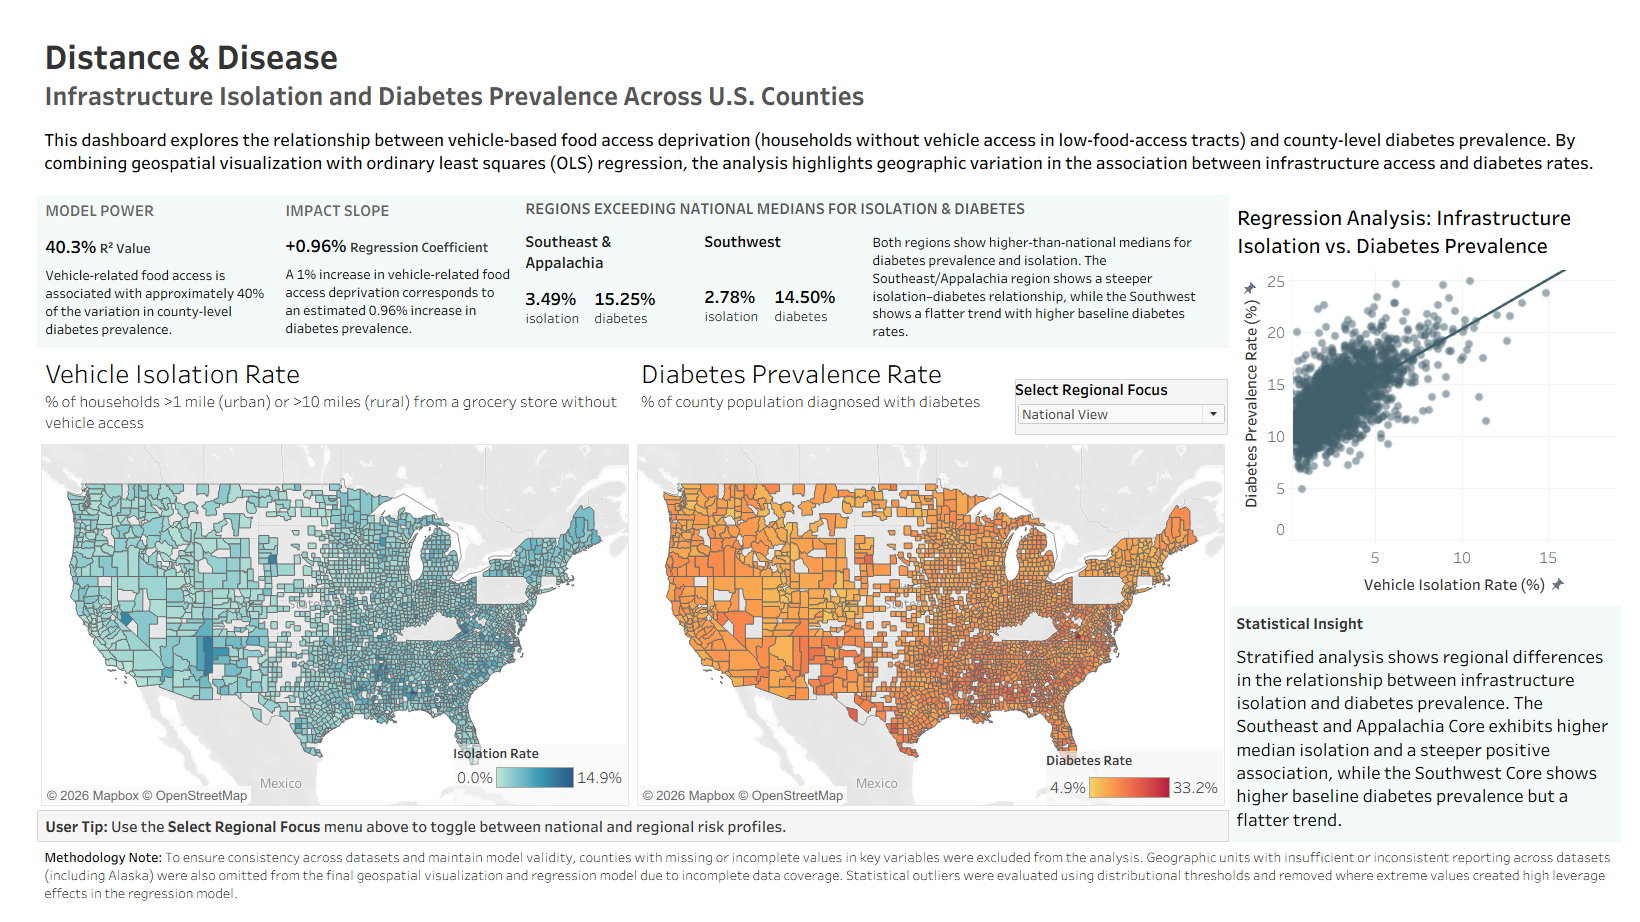

Layout of this report page (visuals, bound fields, positions):
{"tool":"tableau","page":{"name":"Distance & Disease Dashboard","canvas":[1600,900],"ordinal":0},"visuals":[{"type":"text","box":[8,8,1584,100]},{"type":"text","box":[8,108,1584,72]},{"type":"worksheet","title":"Regression Analysis","mark":"Circle","rows":["diabetes_rate"],"cols":["pct_no_car_low_access"],"box":[1200,180,392,411]},{"type":"text","box":[9,181,240,34.8]},{"type":"text","box":[249,181,240,33]},{"type":"text","box":[489,181,710,25]},{"type":"text","box":[489,211.9,146.4,55.2]},{"type":"text","box":[667.7,211.9,168.7,53.2]},{"type":"text","box":[836.4,211.9,362.6,120.1]},{"type":"text","box":[249,214,240,32]},{"type":"text","box":[9,215.8,240,31]},{"type":"text","box":[249,246,240,80]},{"type":"text","box":[9,246.8,240,85.2]},{"type":"text","box":[667.7,265.2,70.7,66.8]},{"type":"text","box":[738.4,265.2,98,66.8]},{"type":"text","box":[489,267.1,68.7,64.9]},{"type":"text","box":[557.7,267.1,77.7,64.9]},{"type":"worksheet","title":"Vehicle Isolation Map","mark":"Multipolygon","box":[8,333,596,462]},{"type":"worksheet","title":"Diabetes Prevalence Map","mark":"Multipolygon","box":[604,333,596,462]},{"type":"parameter","param":"[Parameters].[Parameter 1]","box":[986,364,213,56]},{"type":"text","box":[1200,591,392,32]},{"type":"text","box":[1200,623,392,204]},{"type":"legend","title":"Vehicle Isolation Map","param":"[federated.0u0hfb40xxzmzu1fmzhr60ztdpr7].[sum:Calculation_0587147910811648:qk]","box":[424,729,174,60]},{"type":"legend","title":"Diabetes Prevalence Map","param":"[federated.0u0hfb40xxzmzu1fmzhr60ztdpr7].[sum:Calculation_0587147912527873:qk]","box":[1017,736,177,53]},{"type":"text","box":[9,796,1190,30]},{"type":"text","box":[8,827,1584,65]}]}

Visuals, with their boxes in screenshot pixels (x1, y1, x2, y2), scaled from the page's 1600x900 canvas onto the 1640x922 screenshot:
text: l=8, t=8, r=1632, b=111
text: l=8, t=111, r=1632, b=184
"Regression Analysis" worksheet (Circle marks): l=1230, t=184, r=1632, b=605
text: l=9, t=185, r=255, b=221
text: l=255, t=185, r=501, b=219
text: l=501, t=185, r=1229, b=211
text: l=501, t=217, r=651, b=274
text: l=684, t=217, r=857, b=272
text: l=857, t=217, r=1229, b=340
text: l=255, t=219, r=501, b=252
text: l=9, t=221, r=255, b=253
text: l=255, t=252, r=501, b=334
text: l=9, t=253, r=255, b=340
text: l=684, t=272, r=757, b=340
text: l=757, t=272, r=857, b=340
text: l=501, t=274, r=572, b=340
text: l=572, t=274, r=651, b=340
"Vehicle Isolation Map" worksheet (Multipolygon marks): l=8, t=341, r=619, b=814
"Diabetes Prevalence Map" worksheet (Multipolygon marks): l=619, t=341, r=1230, b=814
parameter: l=1011, t=373, r=1229, b=430
text: l=1230, t=605, r=1632, b=638
text: l=1230, t=638, r=1632, b=847
"Vehicle Isolation Map" legend: l=435, t=747, r=613, b=808
"Diabetes Prevalence Map" legend: l=1042, t=754, r=1224, b=808
text: l=9, t=815, r=1229, b=846
text: l=8, t=847, r=1632, b=914
